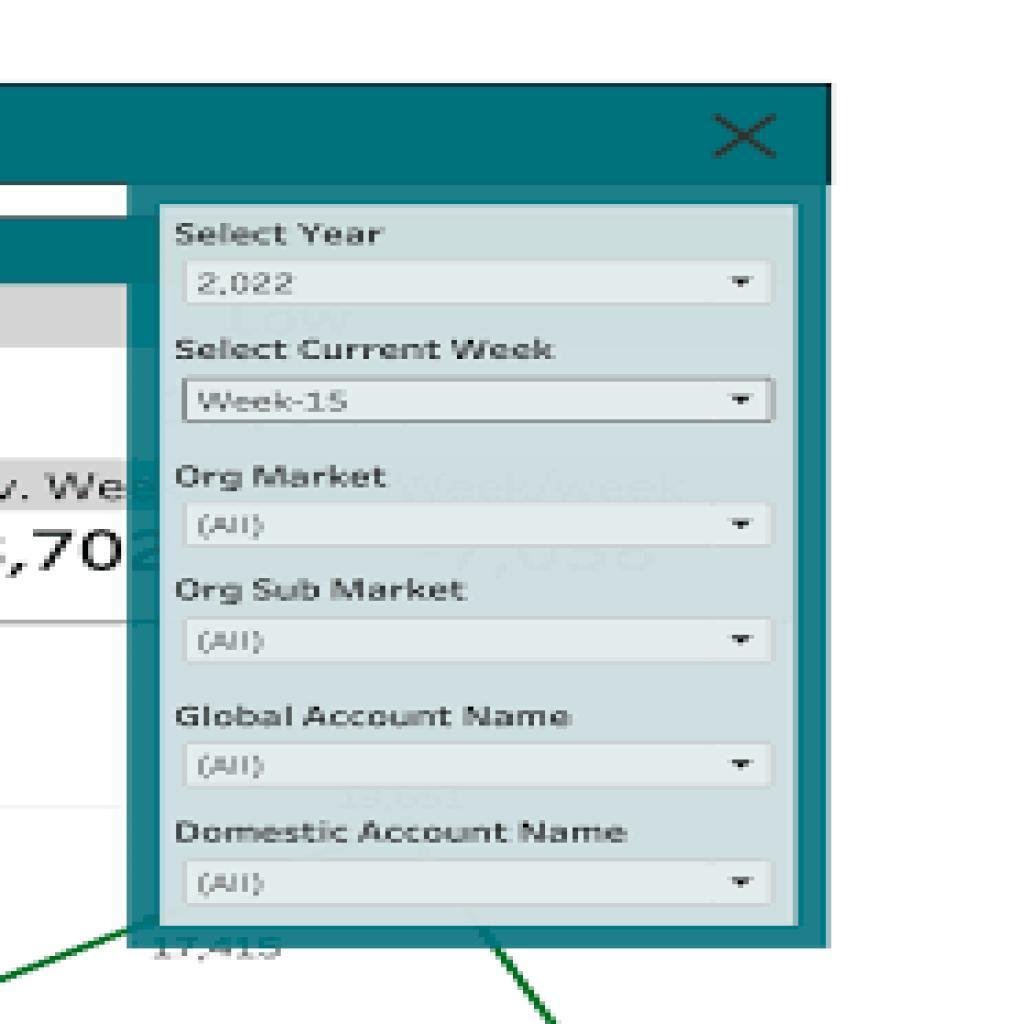dropdown: (183, 615, 776, 669), (188, 256, 776, 309), (182, 742, 777, 791), (184, 861, 773, 909), (182, 504, 773, 550), (183, 378, 771, 423)
